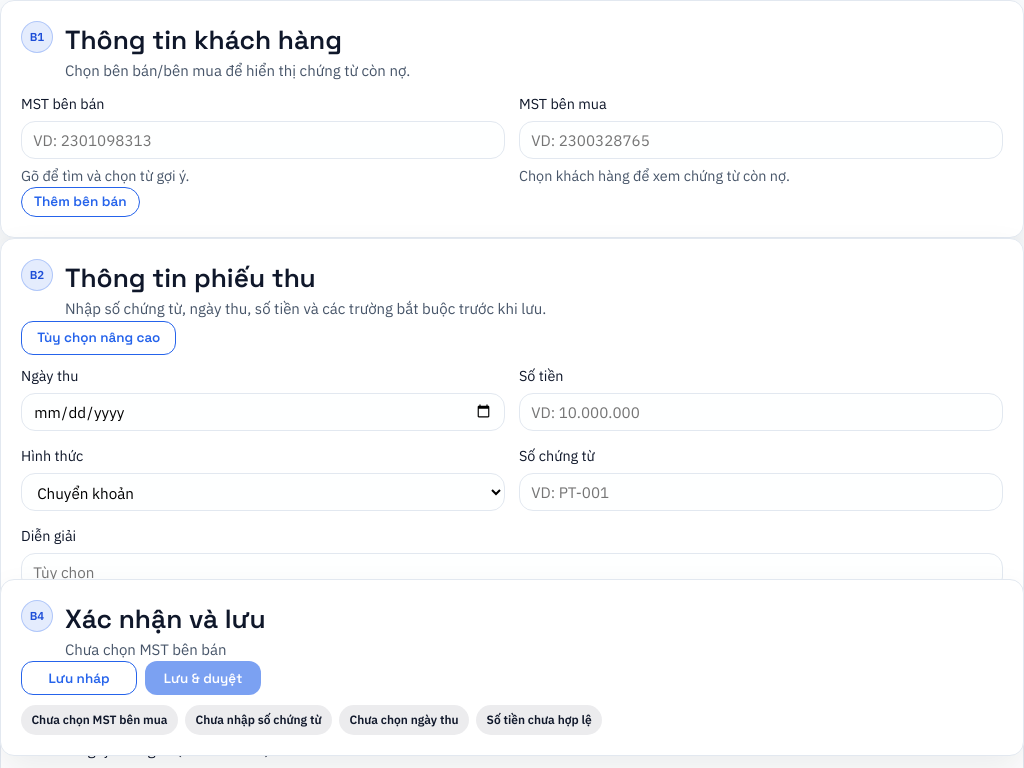
Test: receipts modules › formats receipt amount input while typing
Type "1000000" into the field labelled "Số tiền" at (761, 412), box [519,393,1003,431]
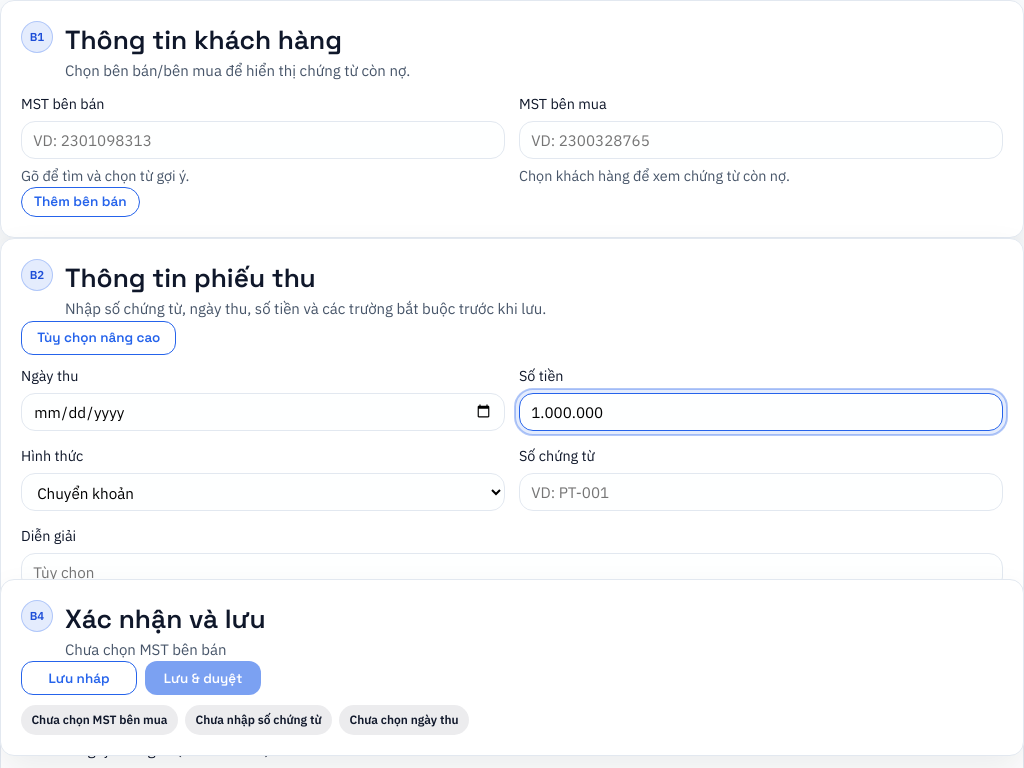
Now the field labelled "Số tiền" holds "1.000.000", box [519,393,1003,431]
